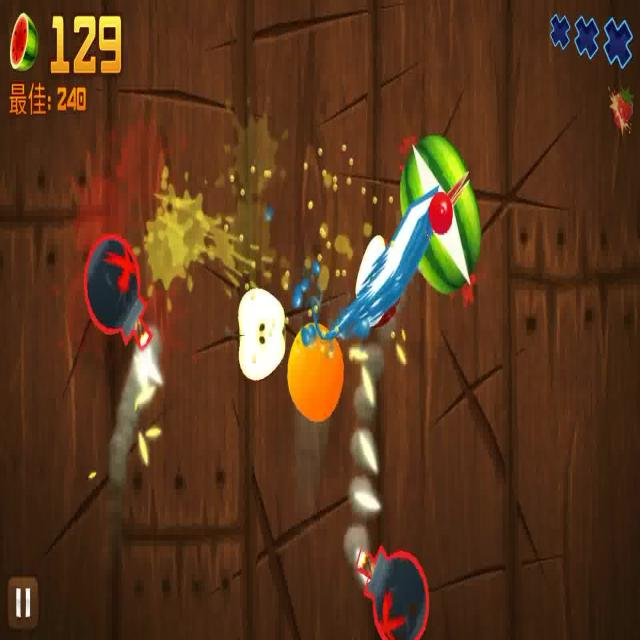bomb: (75, 234, 173, 464), (349, 525, 441, 640)
fruit: (397, 134, 488, 292), (286, 314, 345, 424), (229, 272, 287, 378), (350, 232, 402, 328)
